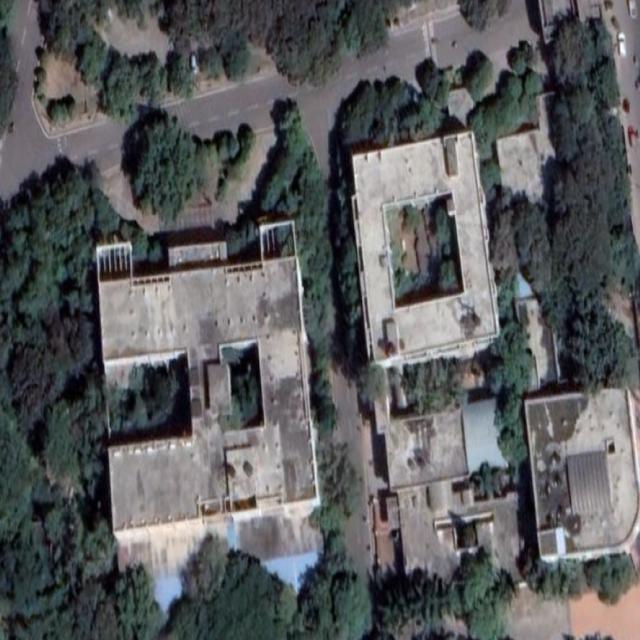Batiment: (96, 220, 318, 530), (352, 131, 499, 366), (525, 390, 640, 560), (398, 476, 519, 578), (385, 407, 468, 489)
